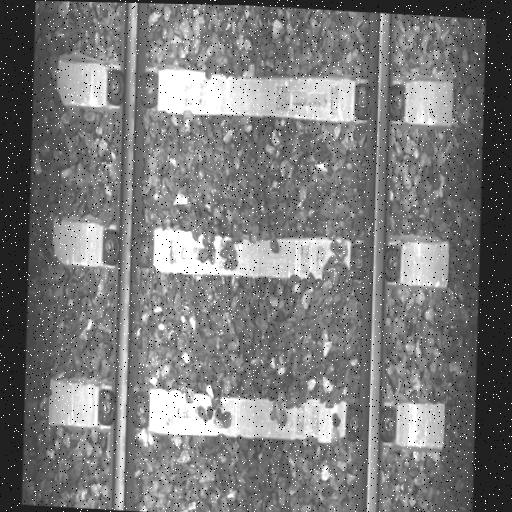sleeper: (53, 205, 451, 293), (48, 368, 447, 452), (56, 49, 457, 130)
